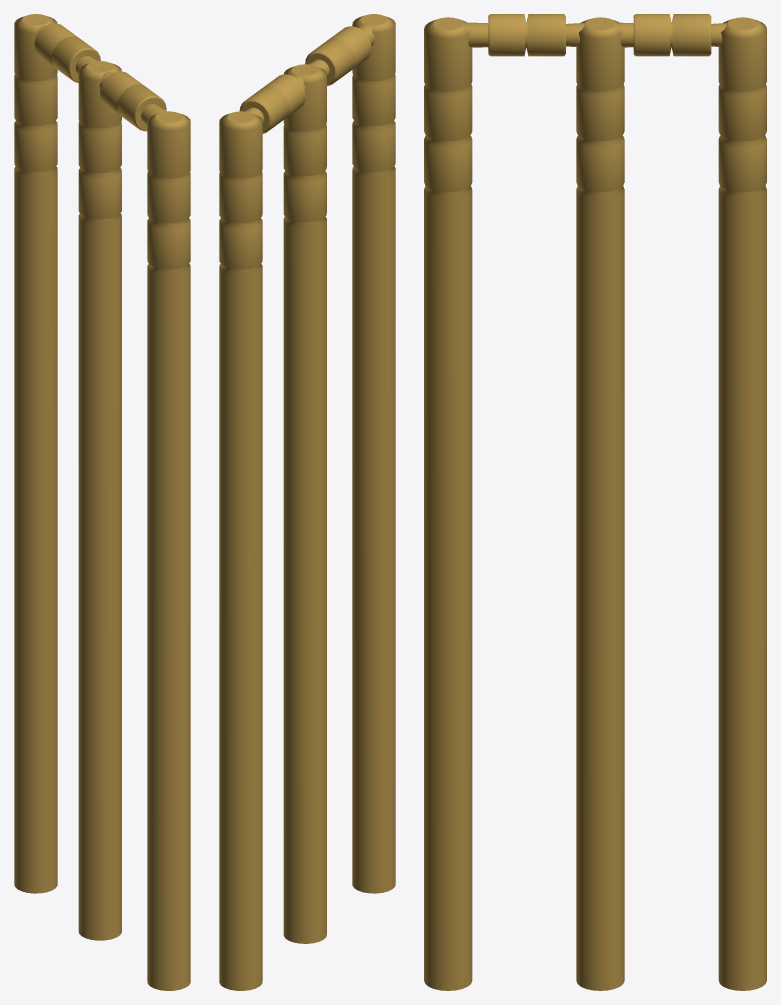
Rendered from wicket.fbx.
3 views of the same model, side by side, from view 1: azimuth 30°, elevation 25°; view 2: azimuth 150°, elevation 25°; view 3: azimuth 270°, elevation 25° (orthographic). The views are drawn at different scales.
Visible parts, largest first — view 1: pCylinder2, pCylinder6, pCylinder7, pCylinder4, pCylinder5; view 2: pCylinder7, pCylinder2, pCylinder6, pCylinder4, pCylinder5; view 3: pCylinder7, pCylinder2, pCylinder6, pCylinder4, pCylinder5.
Part boxes in pixels (x1=…): pCylinder2: x1=147, y1=111, x2=190, y2=990; pCylinder6: x1=78, y1=61, x2=121, y2=940; pCylinder7: x1=14, y1=14, x2=57, y2=893; pCylinder4: x1=99, y1=67, x2=166, y2=131; pCylinder5: x1=34, y1=19, x2=100, y2=82; pCylinder7: x1=219, y1=111, x2=262, y2=990; pCylinder2: x1=352, y1=14, x2=395, y2=893; pCylinder6: x1=283, y1=64, x2=326, y2=943; pCylinder4: x1=305, y1=22, x2=375, y2=86; pCylinder5: x1=239, y1=70, x2=306, y2=133; pCylinder7: x1=718, y1=17, x2=766, y2=990; pCylinder2: x1=424, y1=17, x2=472, y2=990; pCylinder6: x1=576, y1=17, x2=624, y2=990; pCylinder4: x1=458, y1=14, x2=596, y2=56; pCylinder5: x1=603, y1=14, x2=741, y2=56.
Size of the model in its own units: 0.7692 by 16.99 by 5.47.
